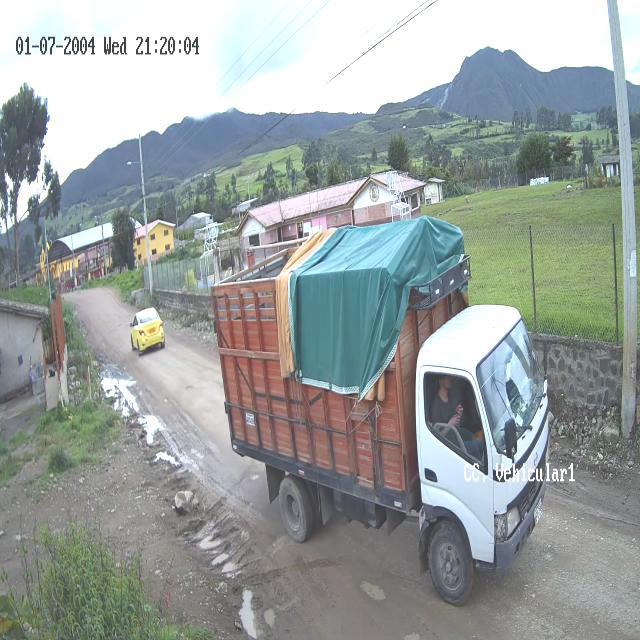TRUCK: (211, 217, 553, 608)
